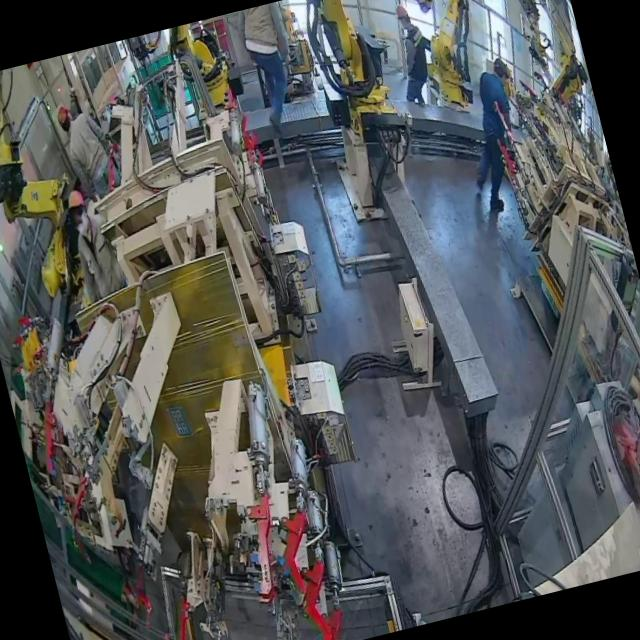Person: (446, 55, 540, 215), (233, 0, 312, 142), (62, 182, 132, 305), (54, 94, 128, 204), (384, 0, 445, 108)
